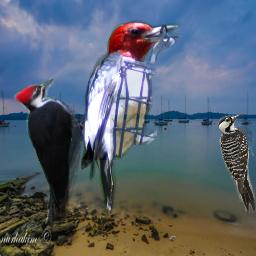Woodpecker: (81, 20, 184, 220), (12, 77, 95, 224), (218, 113, 256, 213)
